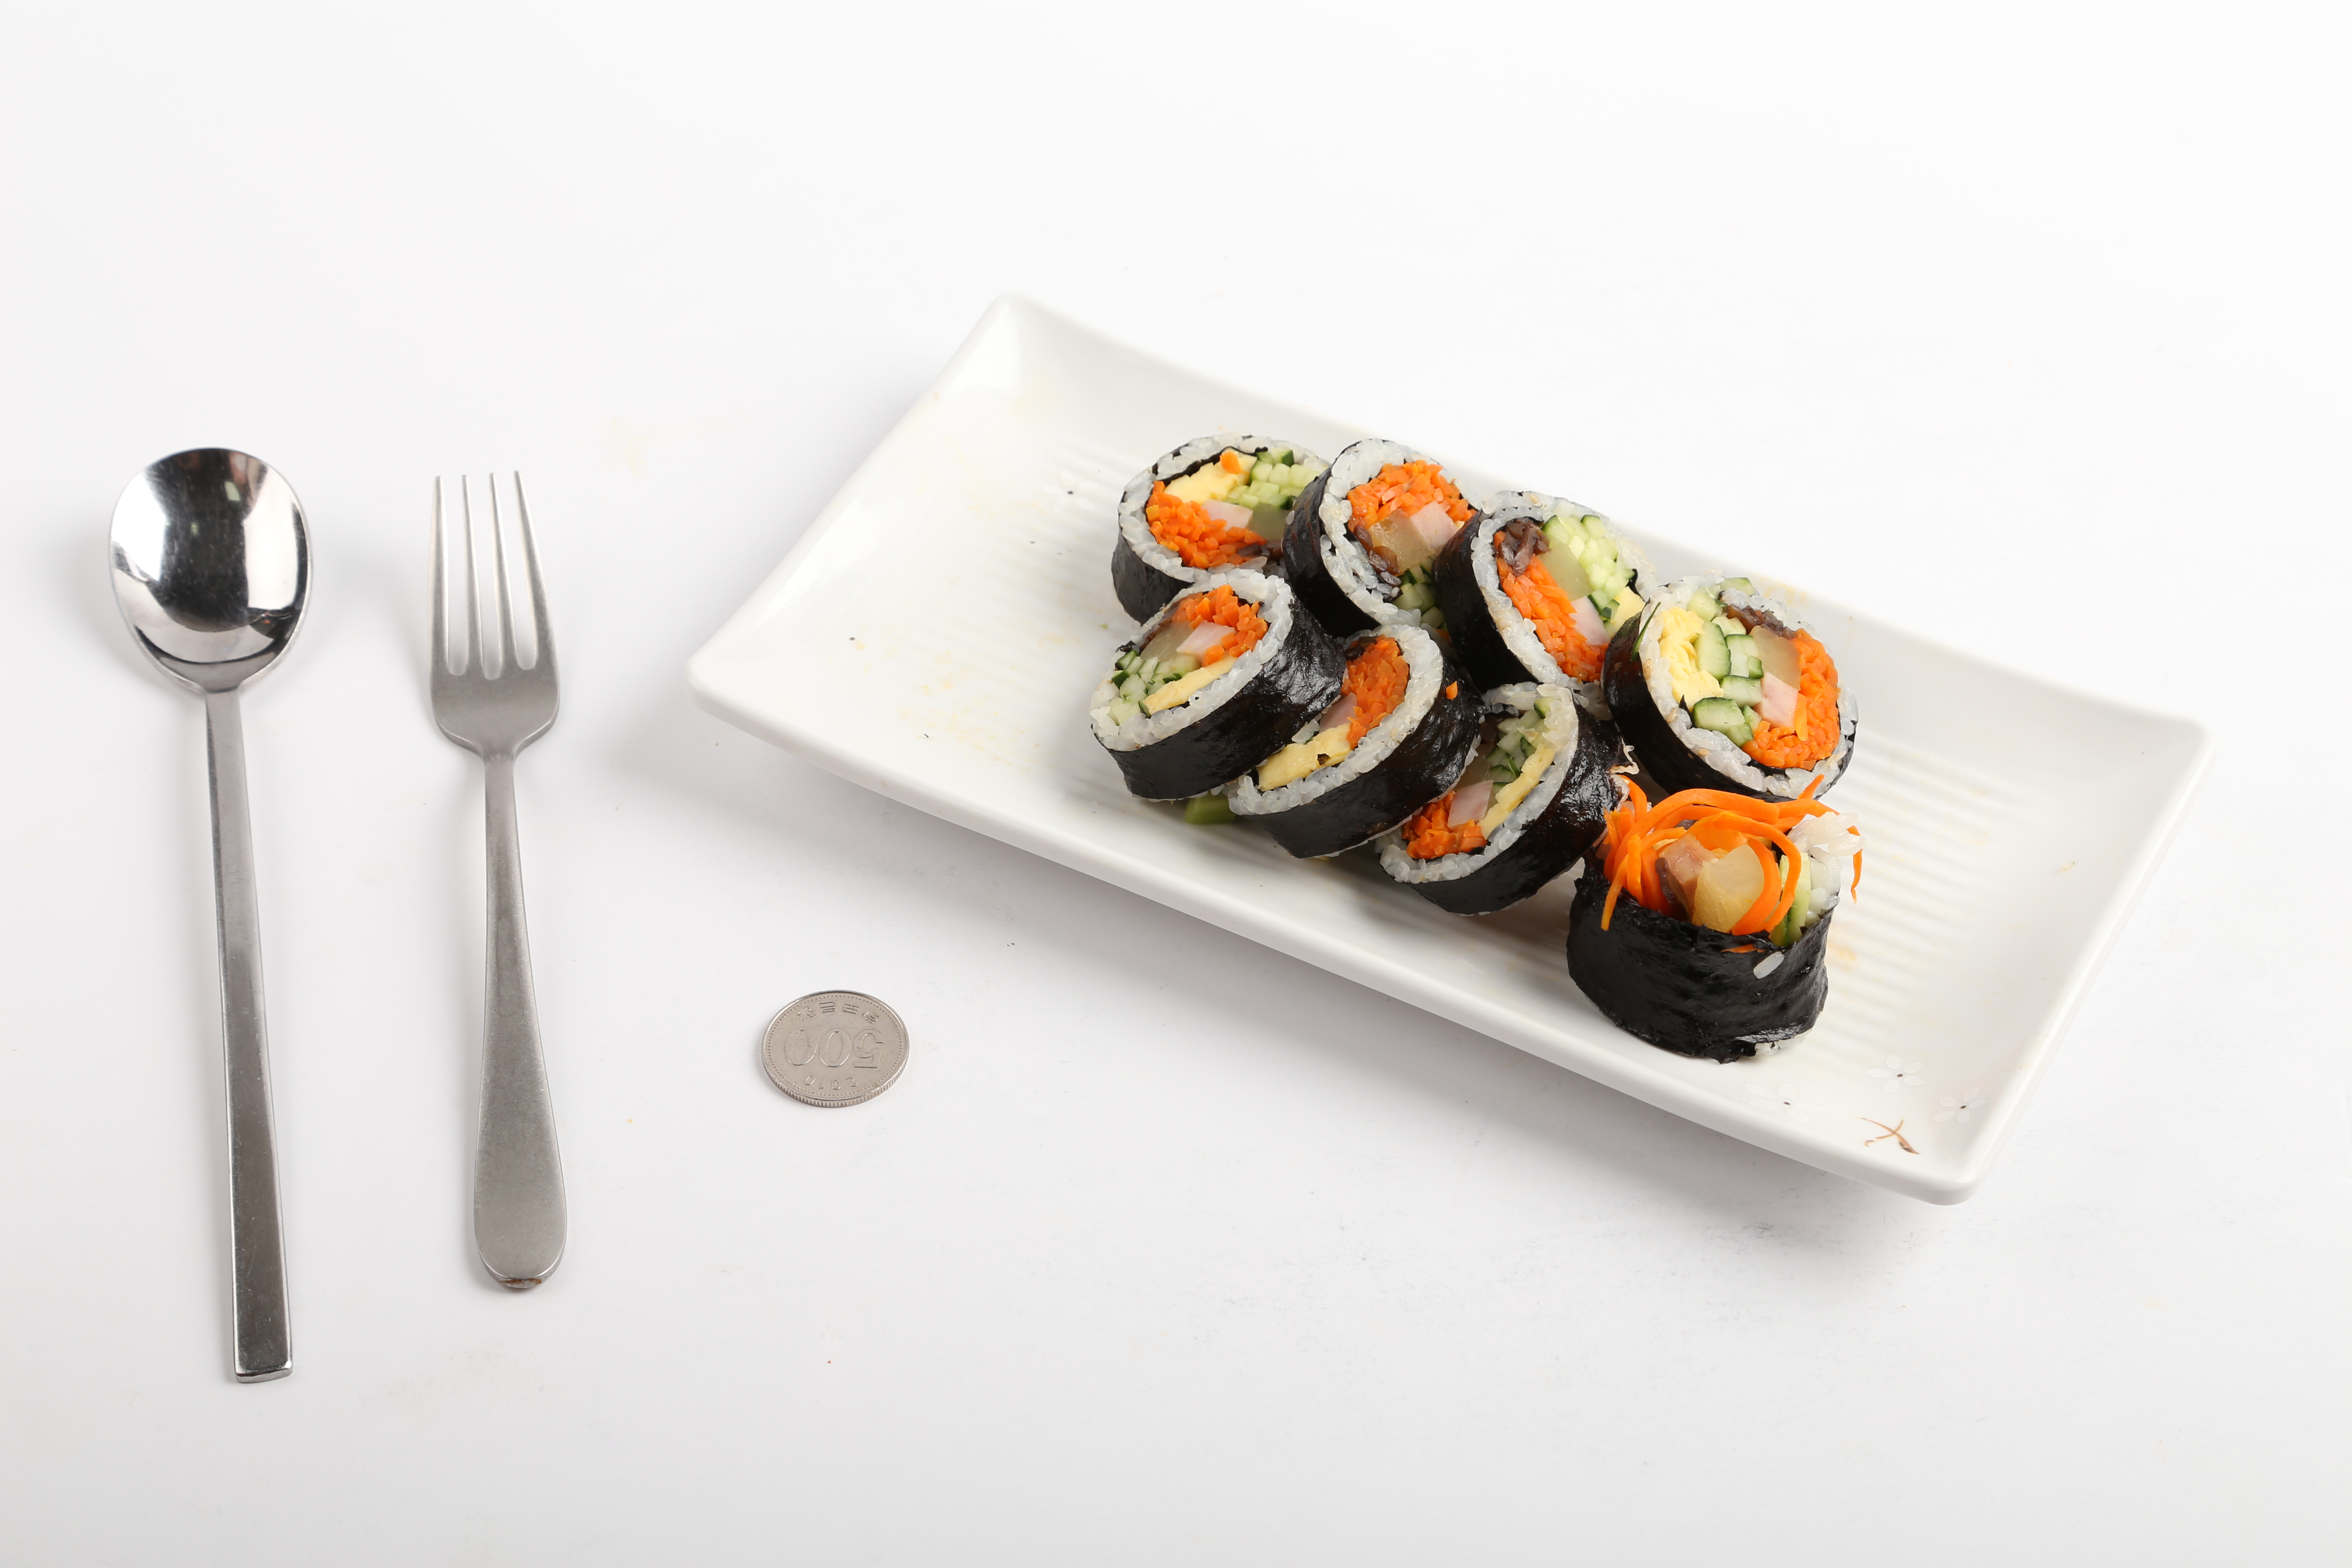dish: (679, 283, 2214, 1207)
ref_coin: (752, 976, 910, 1113)
ref_fork: (418, 455, 560, 805)
ref_spoon: (105, 439, 311, 747)
김밥: (1087, 422, 1864, 1060)
